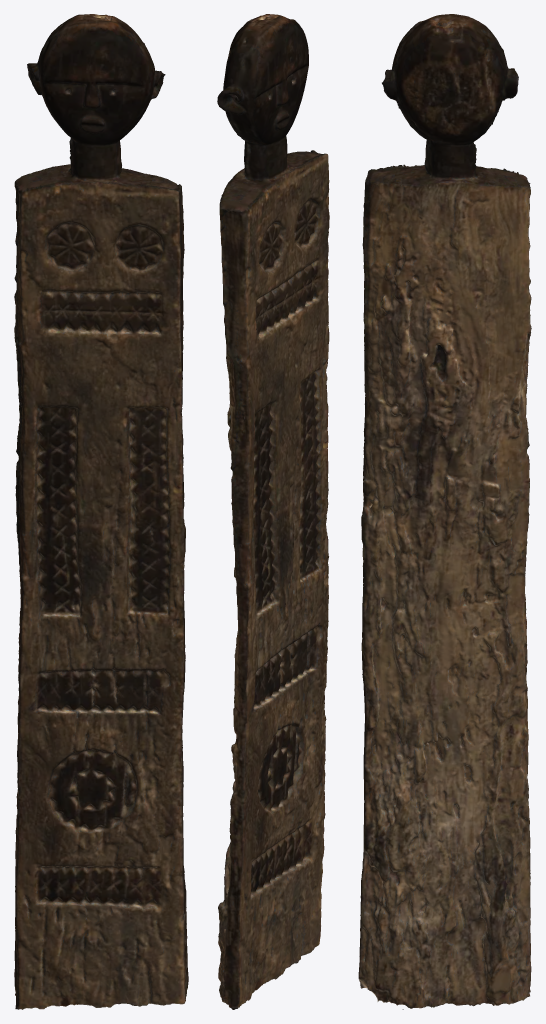
The model's file is preview.glb.
The picture shows the model from 3 angles, left to right: view 1: azimuth 90°, elevation 25°; view 2: azimuth 150°, elevation 25°; view 3: azimuth 270°, elevation 25°; orthographic projection. The views are drawn at different scales.
Parts seen in each view (by area): view 1: Object_2; view 2: Object_2; view 3: Object_2.
Boxes of the visible parts, <box> form: Object_2: <box>14,14,188,1009</box>; Object_2: <box>217,14,329,1009</box>; Object_2: <box>358,14,531,1009</box>.
Size of the model in its own units: 82.26 by 1408 by 225.
Materials: 1 (1 with a texture image).
